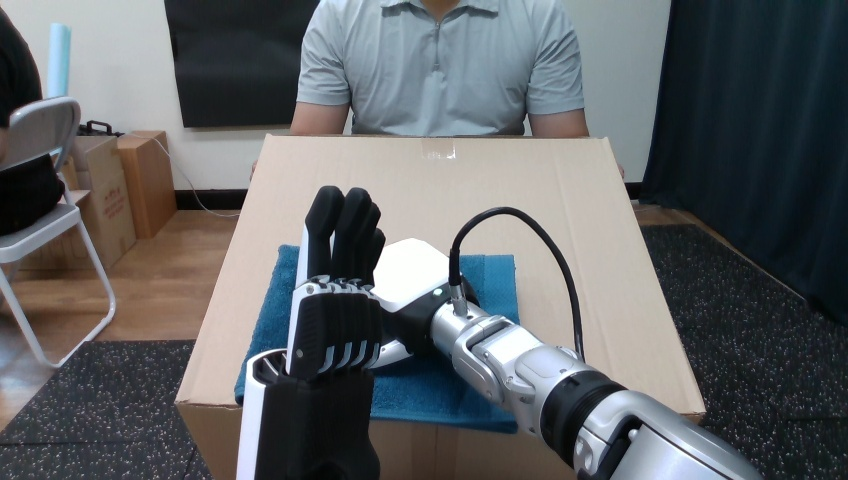left robot hand: (236, 186, 760, 479), (458, 214, 575, 350)
